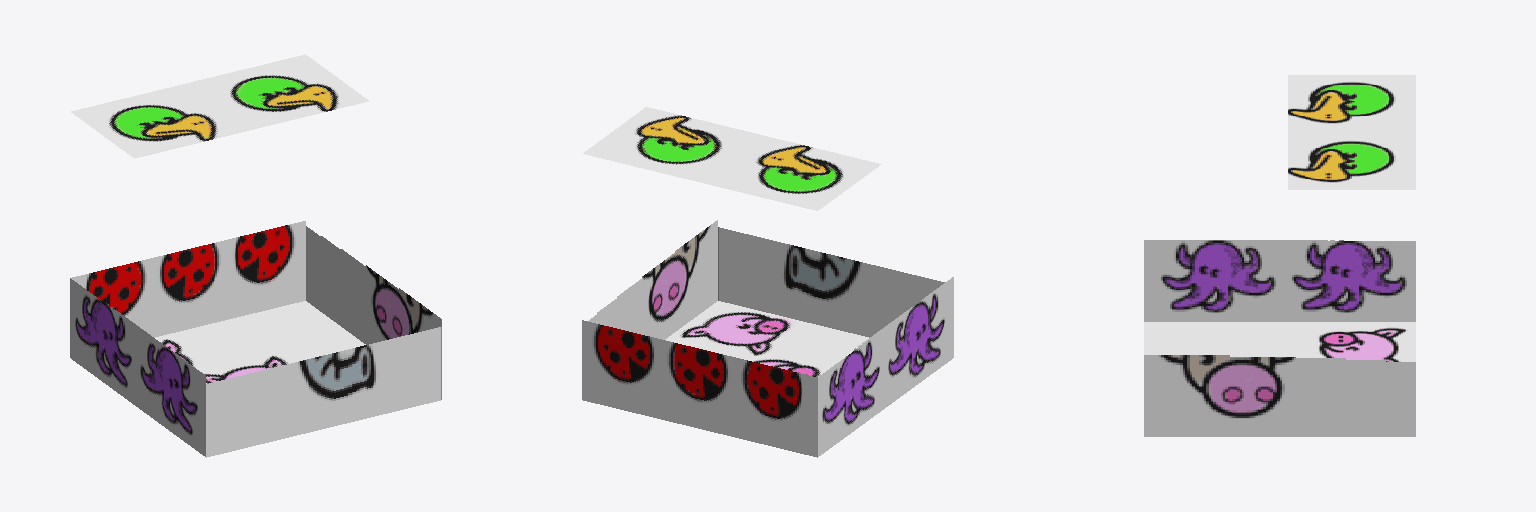
3 views of the same model, side by side, from view 1: azimuth 30°, elevation 25°; view 2: azimuth 150°, elevation 25°; view 3: azimuth 270°, elevation 25° (orthographic).
Parts seen in each view (by area): view 1: Box001; view 2: Box001; view 3: Box001.
Boxes of the visible parts, x1,y1,x2,y2 form: Box001: [70, 54, 441, 457]; Box001: [582, 107, 953, 457]; Box001: [1144, 75, 1415, 436].
Bounding box in the file's own units: 19.84 × 19.84 × 19.84.
Materials: 1 (1 with a texture image).